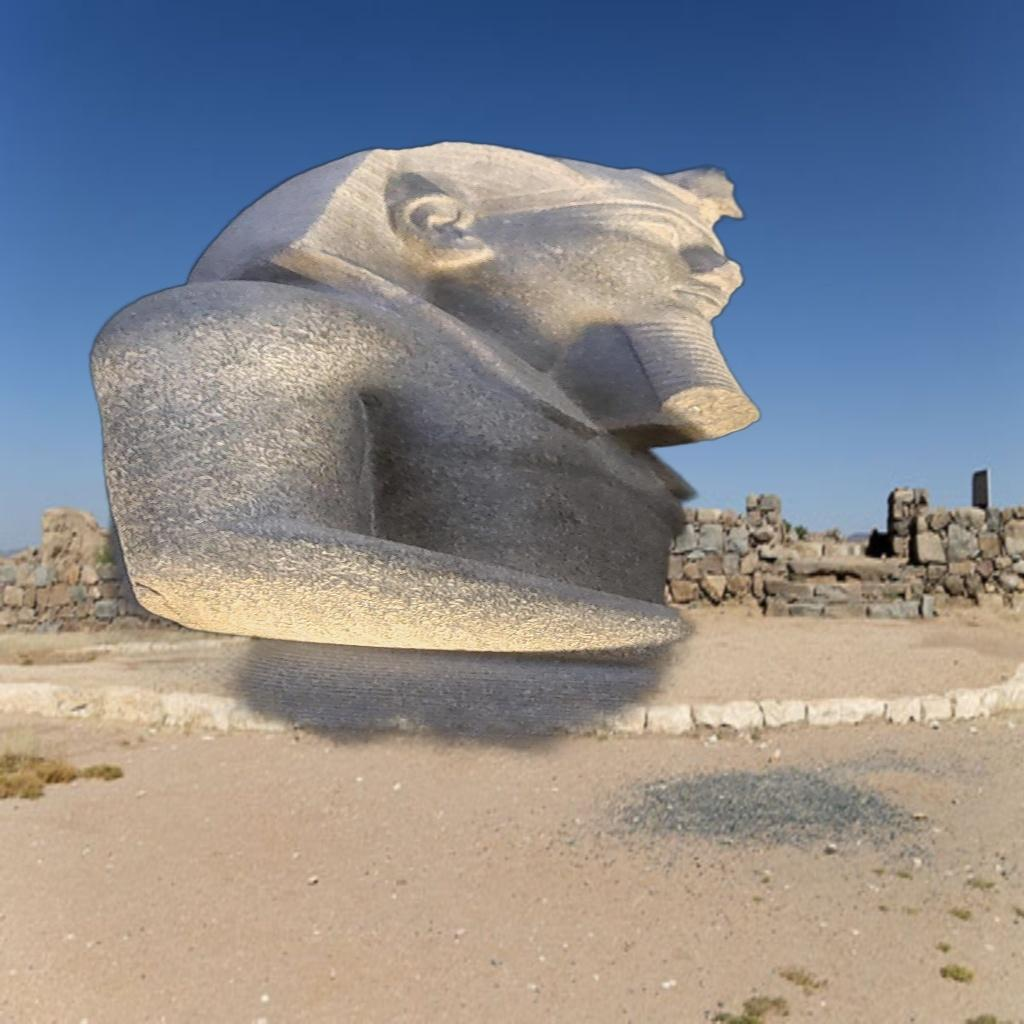Seated Statue of Amenhotep III: (14, 137, 1016, 1017)
